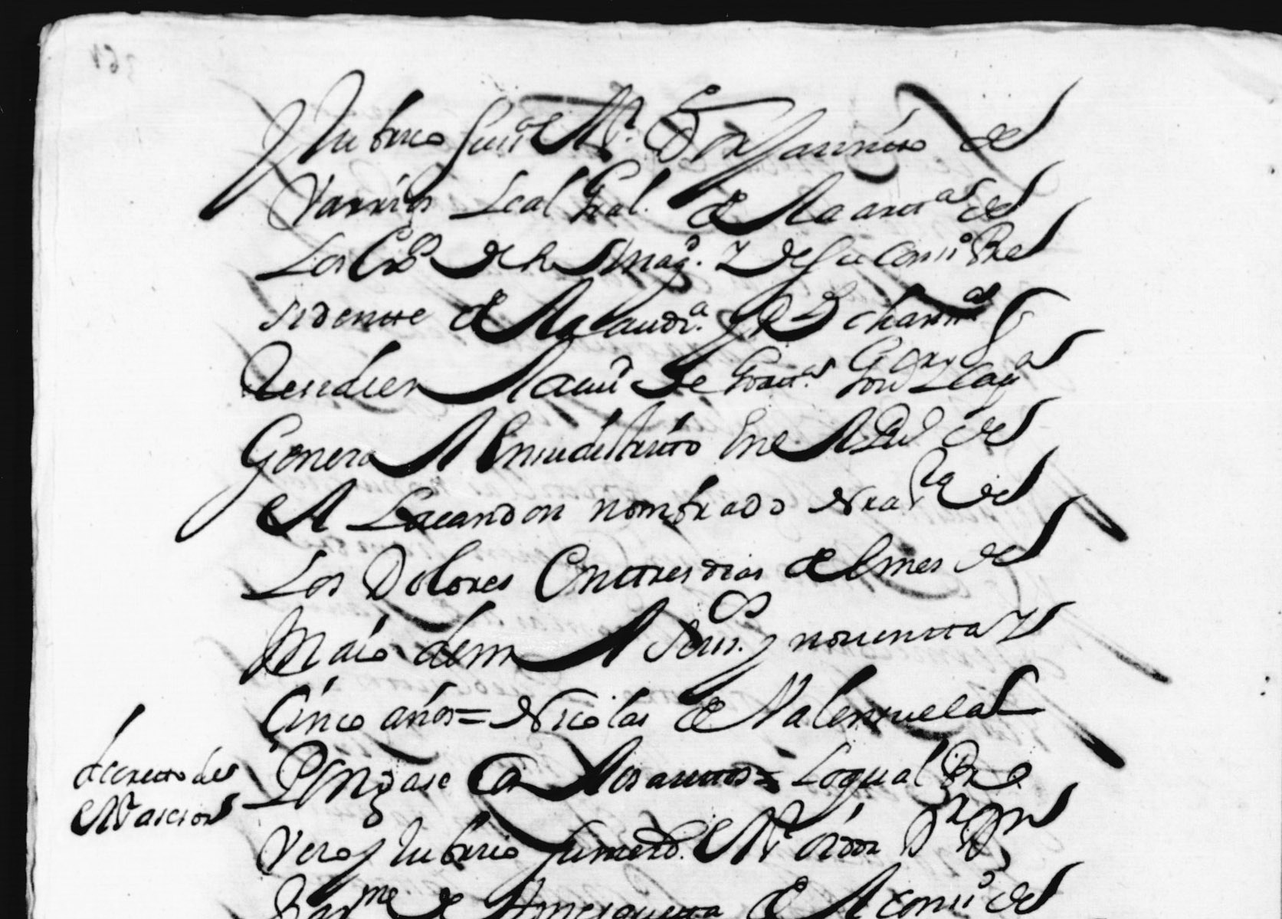lacandon: (346, 487, 565, 532)
